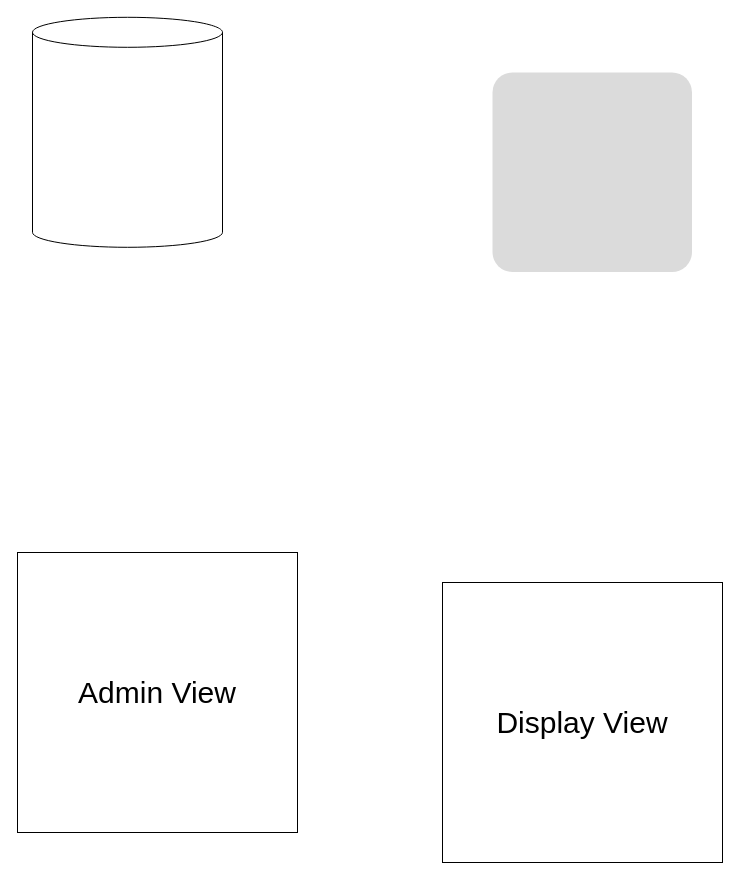
The diagram is 740 pixels wide and 881 high, and some of its shapes have lost their labels. The centre of each missing label's shape, as x and y in pixels:
"Database" belongs at (x=127, y=131).
"EXPRESS" belongs at (x=592, y=172).
